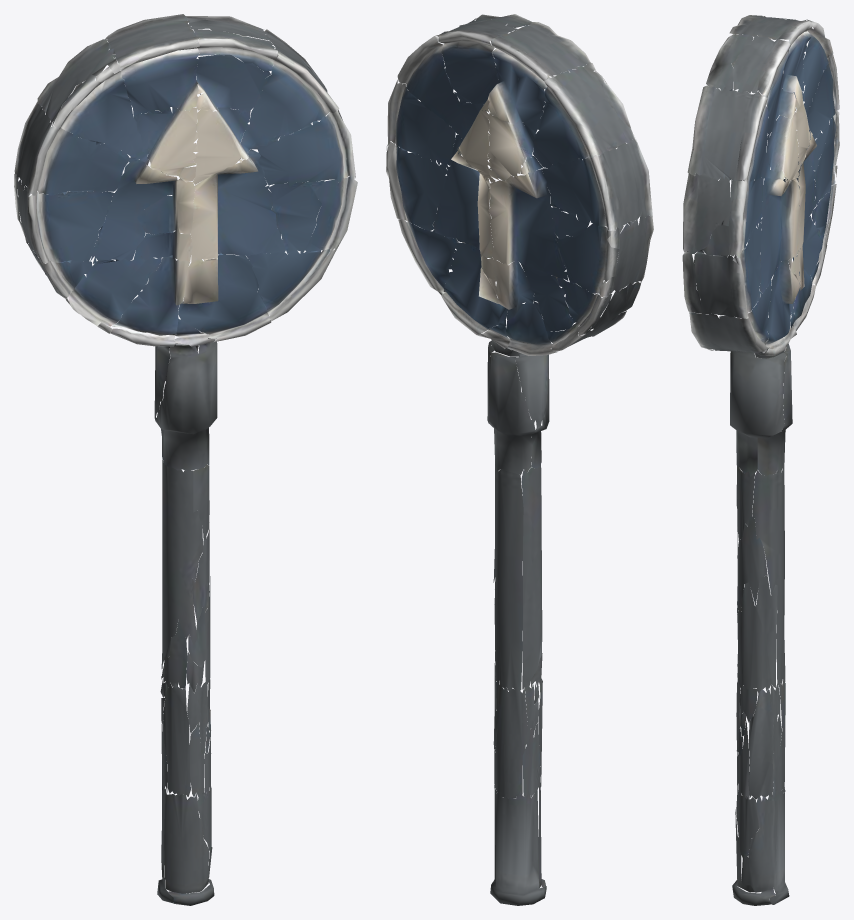
The model's file is prop10.glb.
3 views of the same model, side by side, from view 1: azimuth 30°, elevation 25°; view 2: azimuth 150°, elevation 25°; view 3: azimuth 270°, elevation 25° (orthographic).
Visible parts, largest first — view 1: tripo_node_271400a5-0797-4b98-9e53-006726beb005; view 2: tripo_node_271400a5-0797-4b98-9e53-006726beb005; view 3: tripo_node_271400a5-0797-4b98-9e53-006726beb005.
Boxes of the visible parts, left/top/right/bottom form: tripo_node_271400a5-0797-4b98-9e53-006726beb005: left=14, top=14, right=357, bottom=905; tripo_node_271400a5-0797-4b98-9e53-006726beb005: left=386, top=14, right=653, bottom=905; tripo_node_271400a5-0797-4b98-9e53-006726beb005: left=682, top=15, right=839, bottom=905.
Bounding box in the file's own units: 0.35 × 1 × 0.1658.
Materials: 1 (1 with a texture image).
